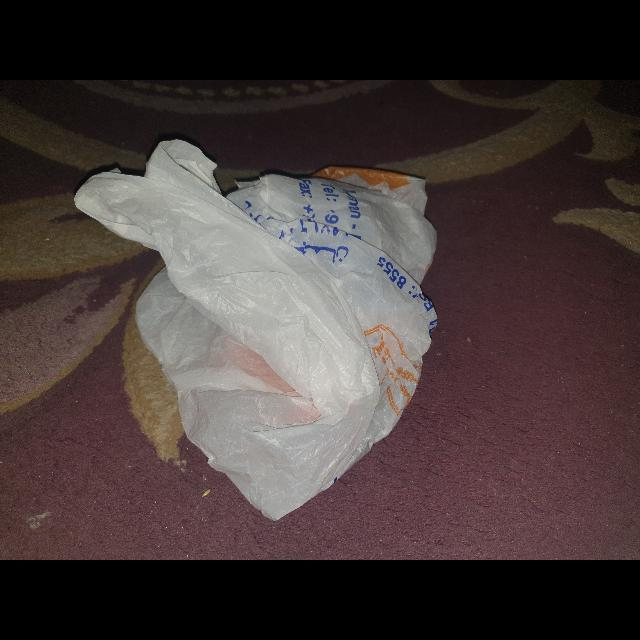plastic_bag: (63, 128, 463, 530)
